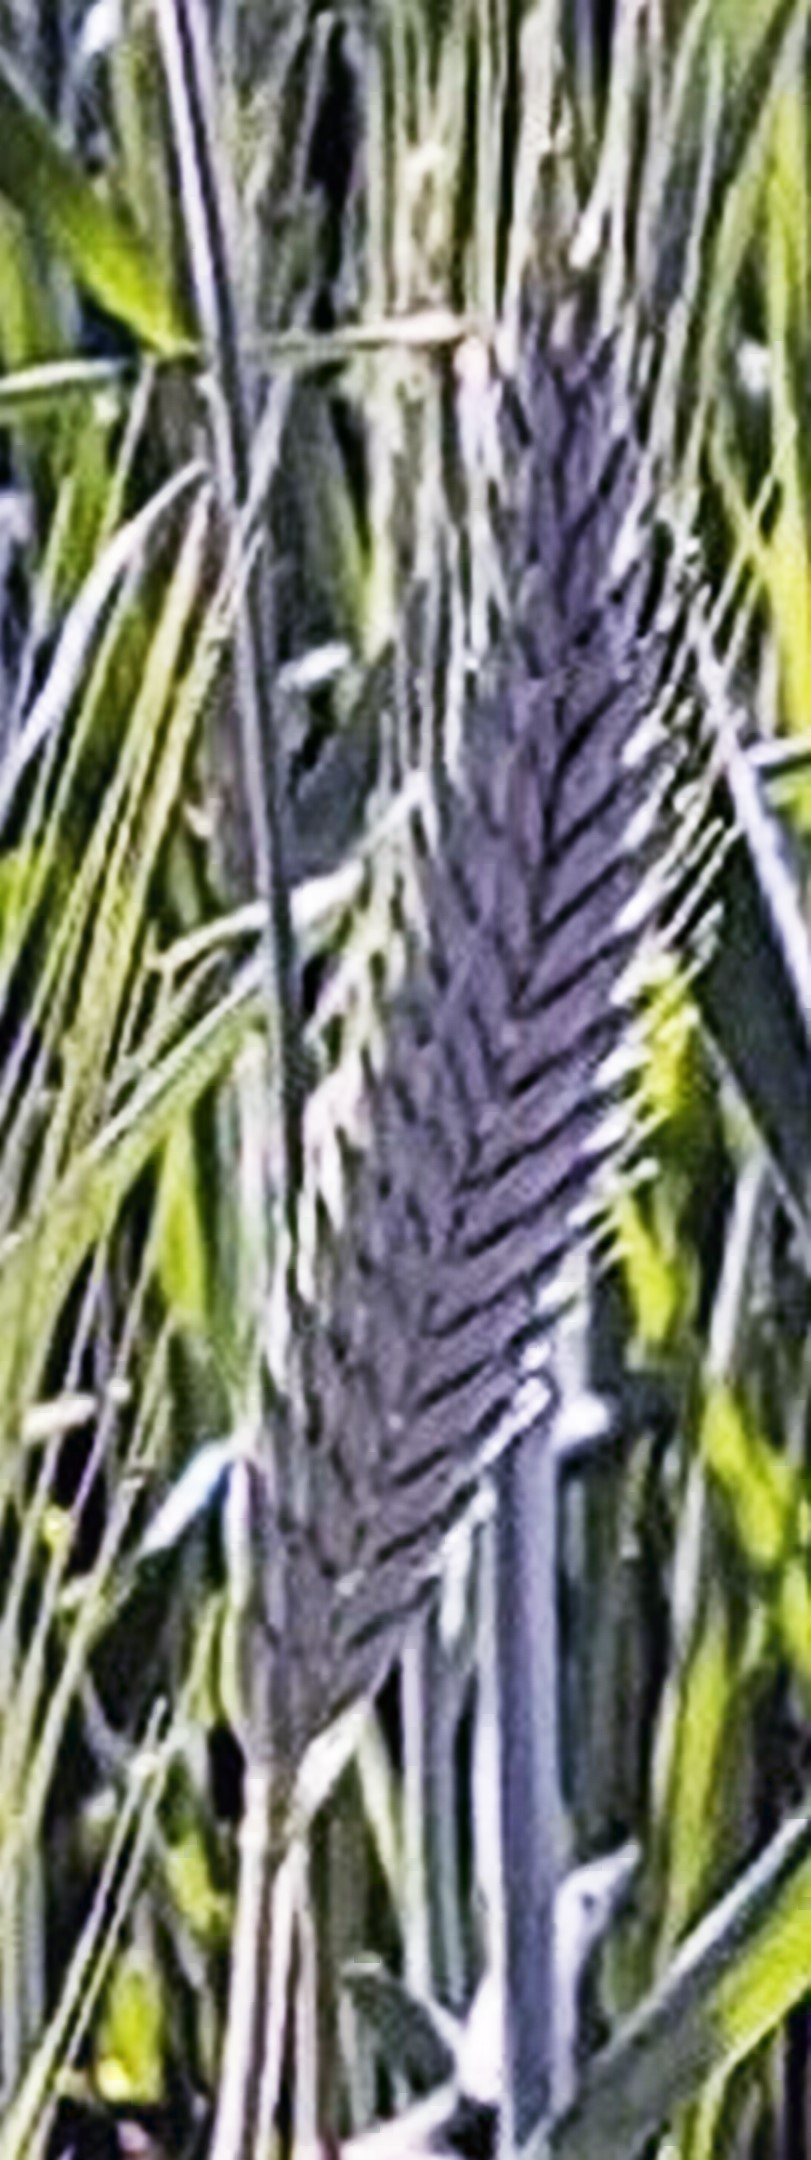Healthy Wheat: (235, 336, 715, 1738)
